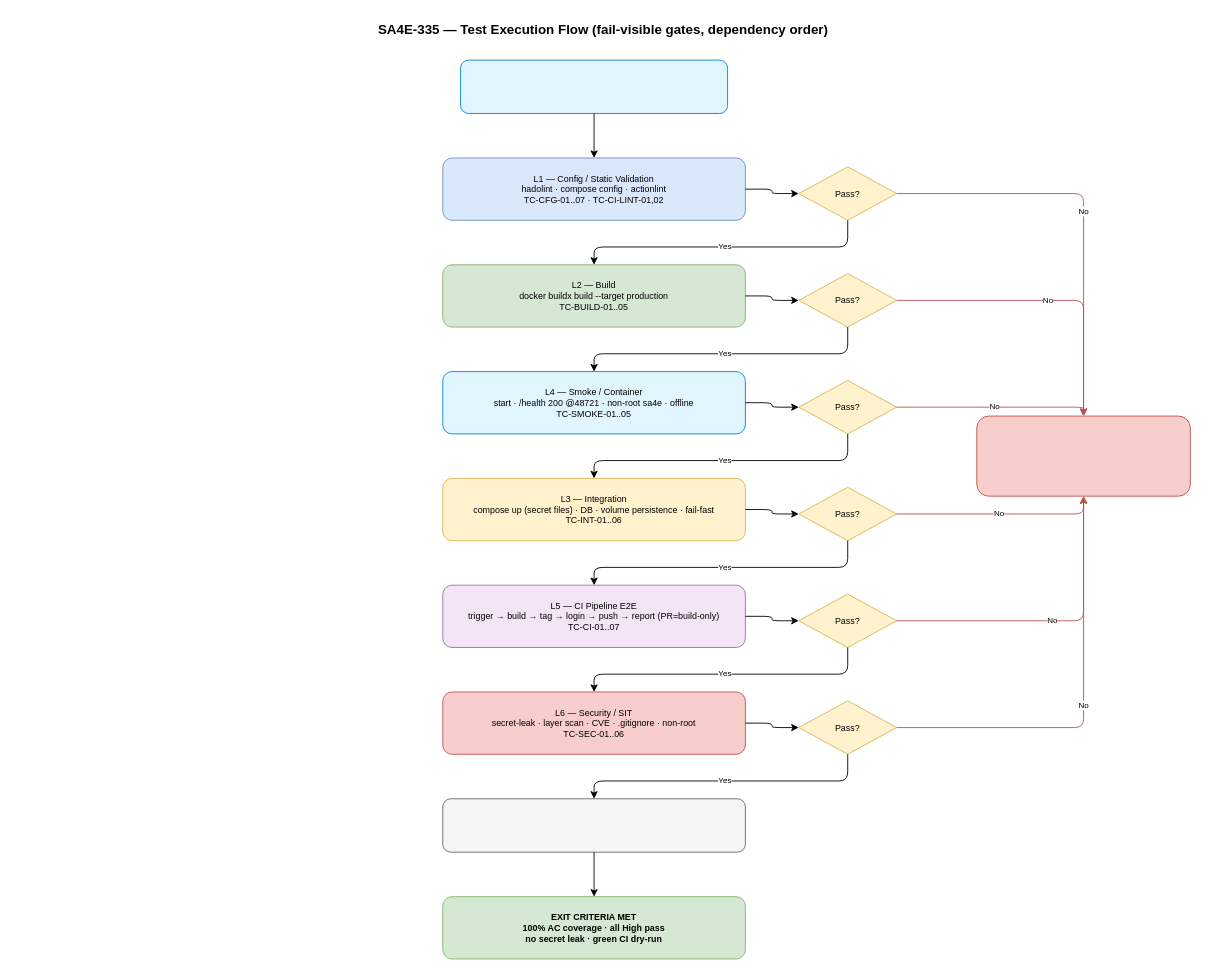
Some shapes in this 1206 by 975 pixel diagram are drawn without their labels. The shapes that lost their labels are listed below. From the top down, each one's centre as x and y in pixels, then its label:
pixel 594 86: START Artifacts ready (Dockerfile · compose · workflow · docs)
pixel 1083 455: RAISE DEFECT stop progression · log to QA return to DevOps (fail-visible, BR-19)
pixel 593 825: Doc Verification TC-DOC-01..06
